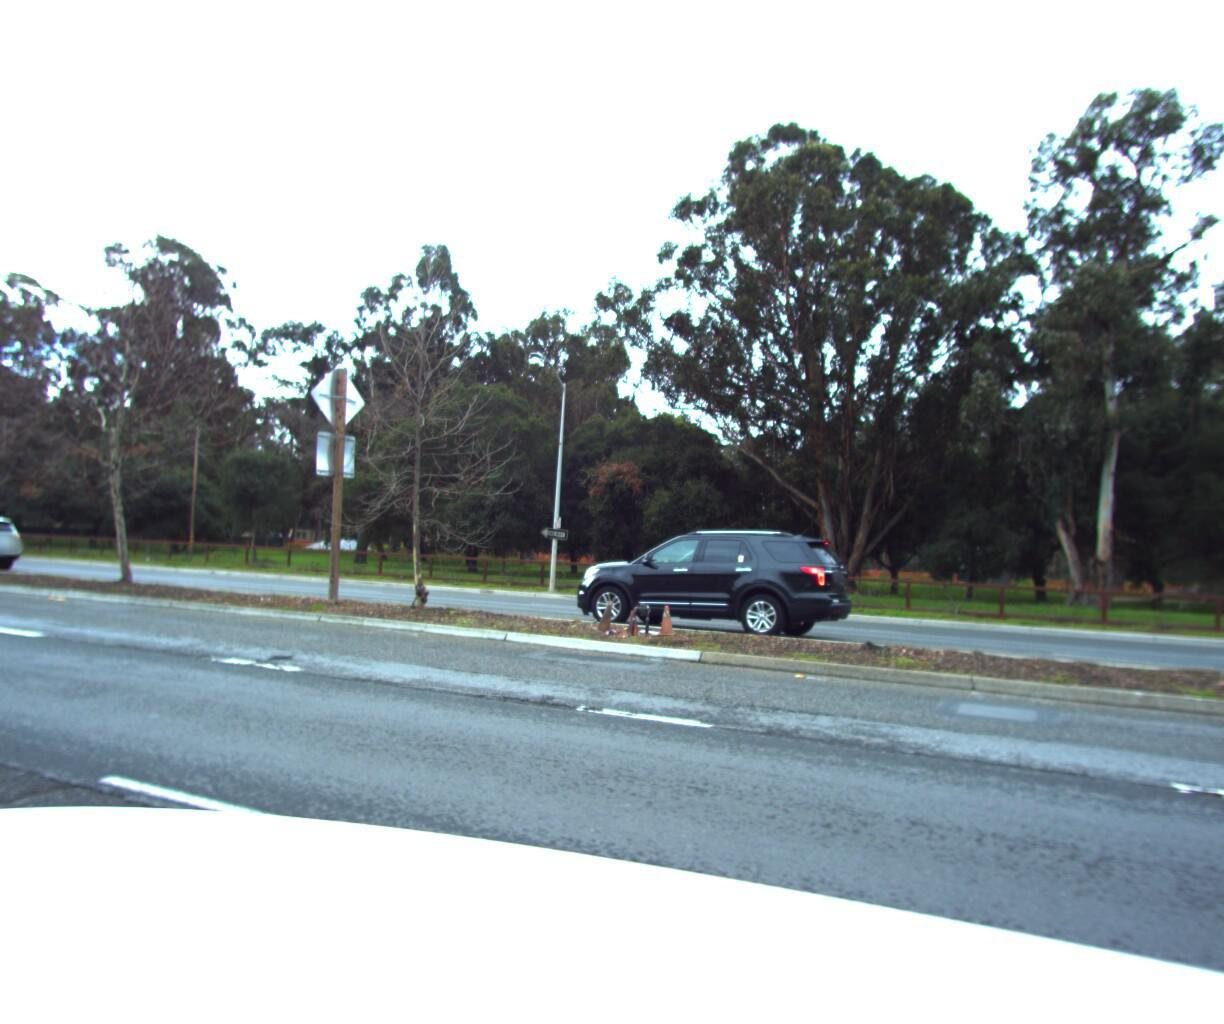car: (564, 511, 870, 647), (0, 502, 33, 566)
